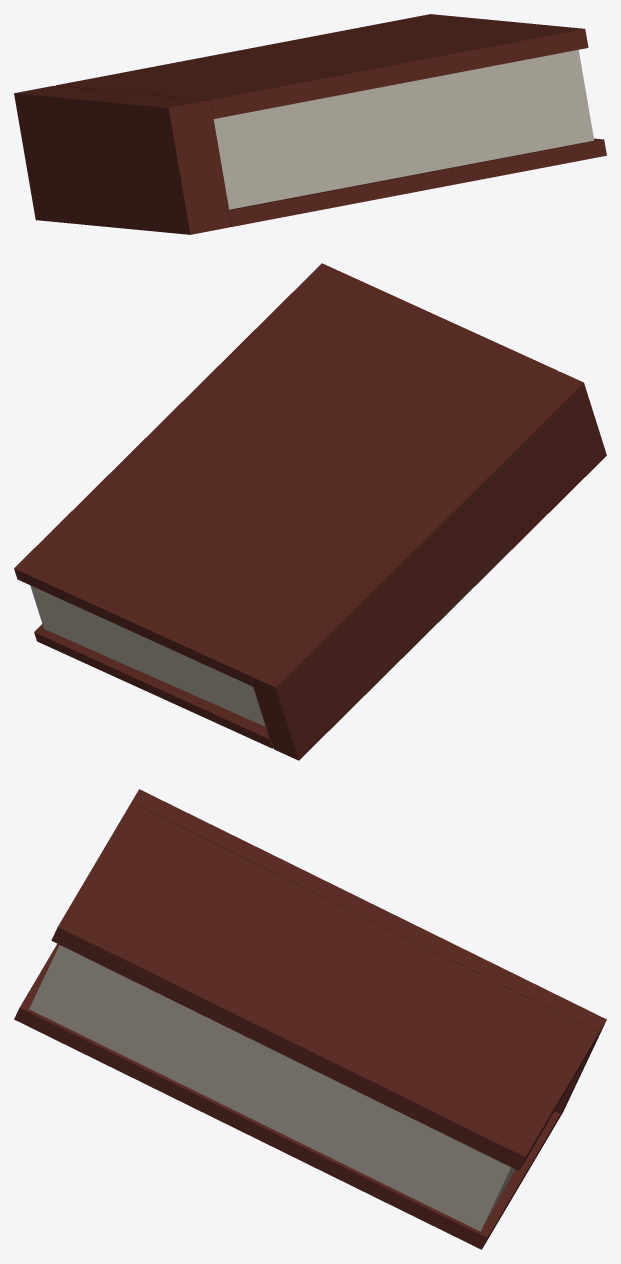
File: LibroprotoAnim.fbx
3 renders of one model, top to bottom at view 1: azimuth 30°, elevation 25°; view 2: azimuth 150°, elevation 25°; view 3: azimuth 270°, elevation 25°, orthographic. The views are drawn at different scales.
Visible parts, largest first — view 1: Cube.001; view 2: Cube.001; view 3: Cube.001.
Part boxes in pixels (x1,y1,x2,y2): Cube.001: [14, 14, 606, 234]; Cube.001: [14, 263, 606, 760]; Cube.001: [14, 789, 606, 1249].
Bounding box in the file's own units: 716 × 478 × 865.
